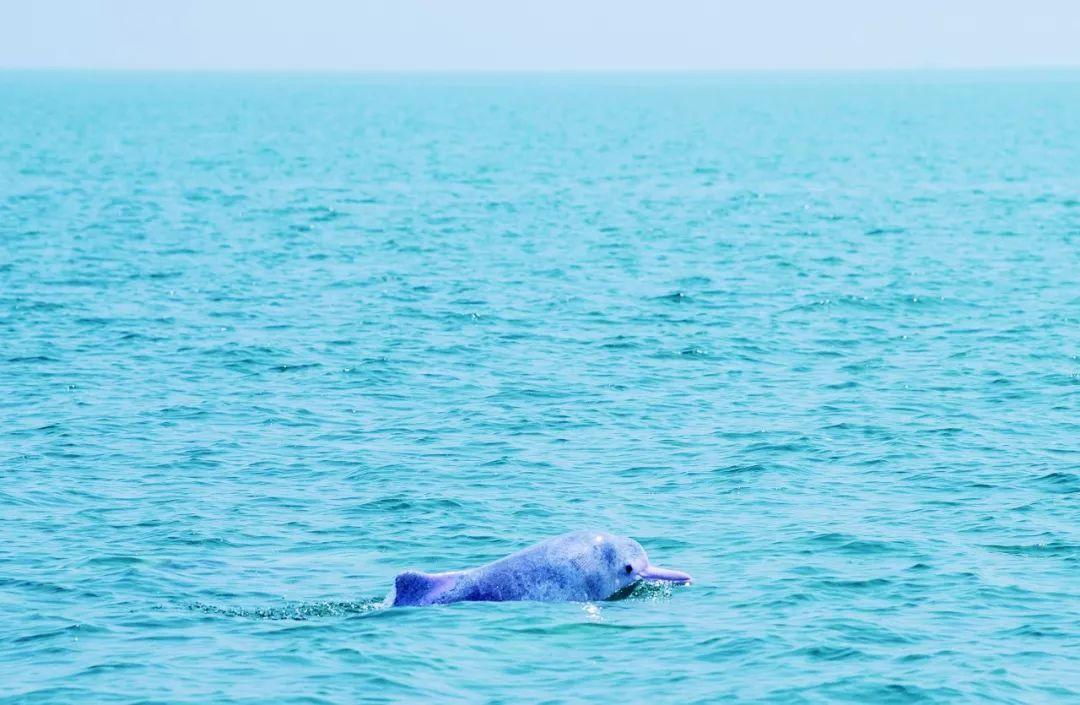fish: (347, 523, 696, 622)
